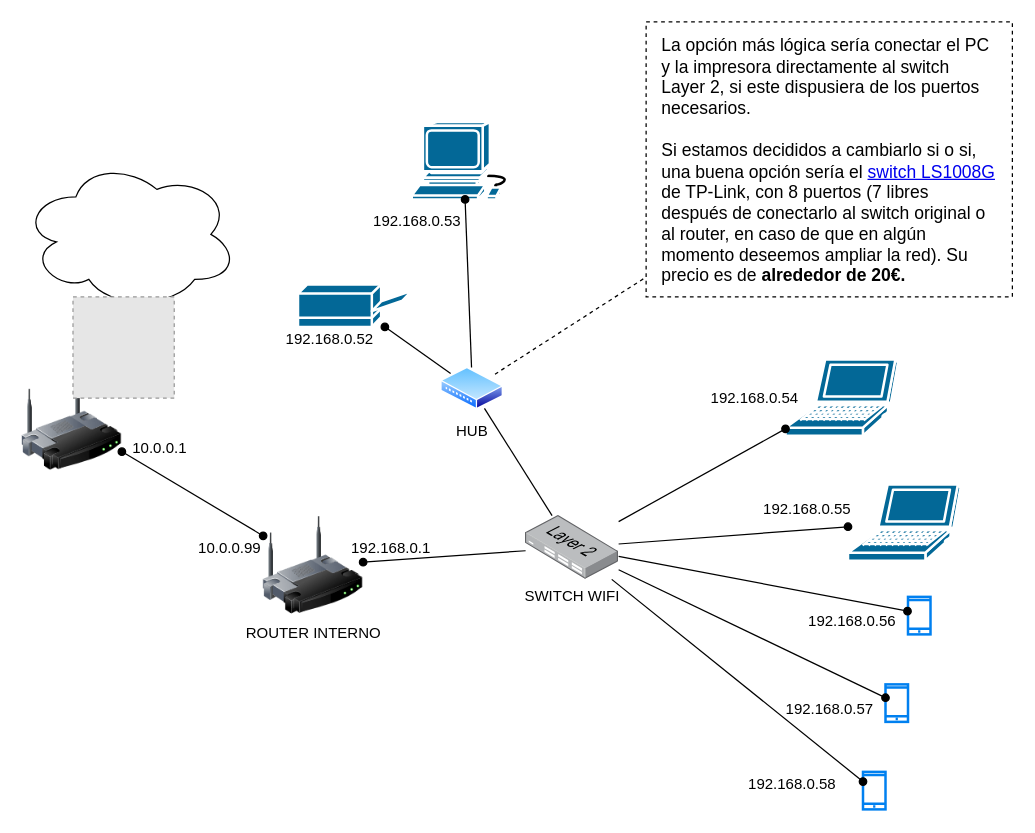
Some shapes in this 1035 by 833 pixel diagram are drawn without their labels. Grey dashed boxes stand in for pictures. The shapes that lost their labels are listed below. From the top down, each one's centre as x and y in pixels, then its label:
[129,233]: Internet
[71,421]: ROUTER OPERADOR TELEFONICO
